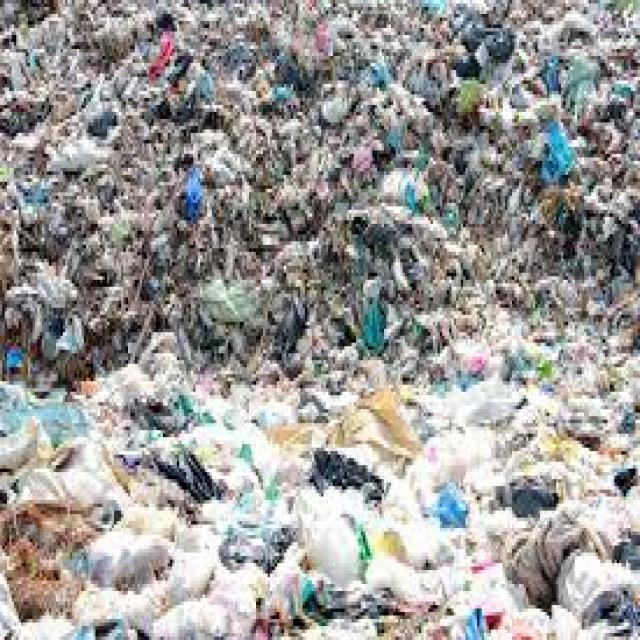heap: (50, 39, 618, 640)
